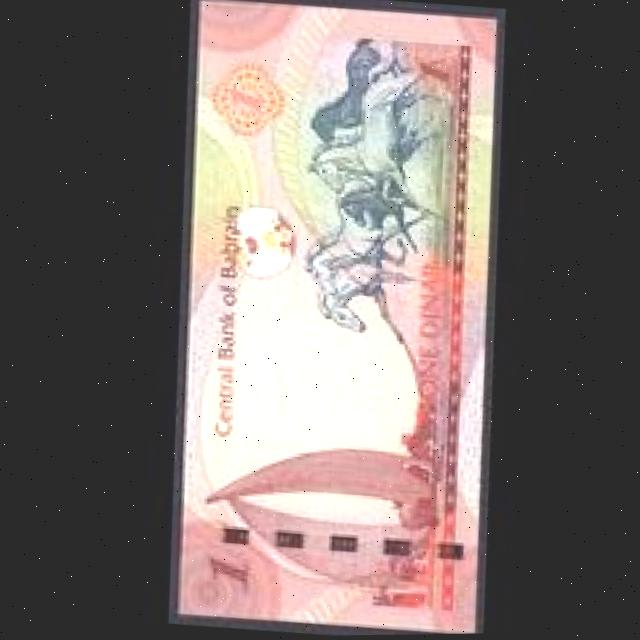banknote: (136, 0, 524, 638)
